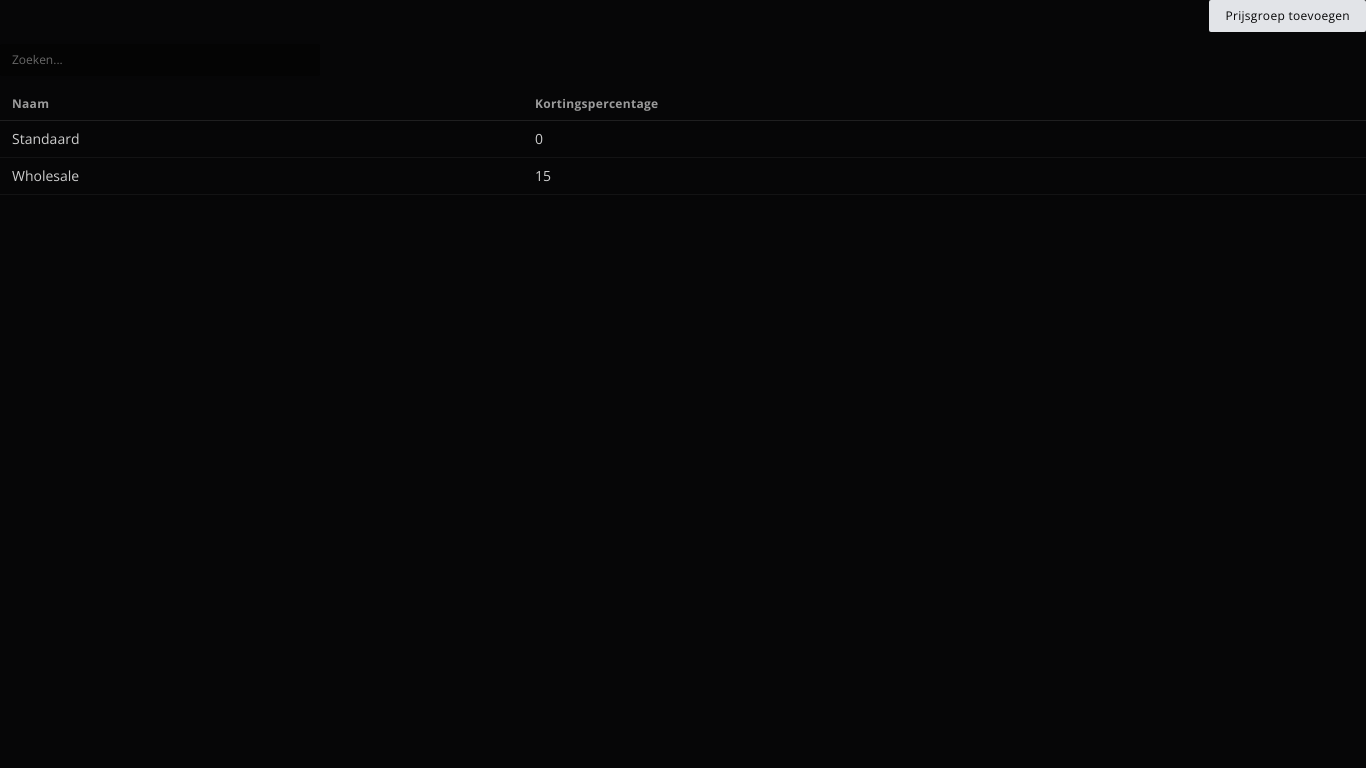
it: PrijsgroepenSection › shows an action error and does not log when adding fails
Click the button with test id "prijsgroepen-add" at [1288, 16], box [1210,0,1365,32]
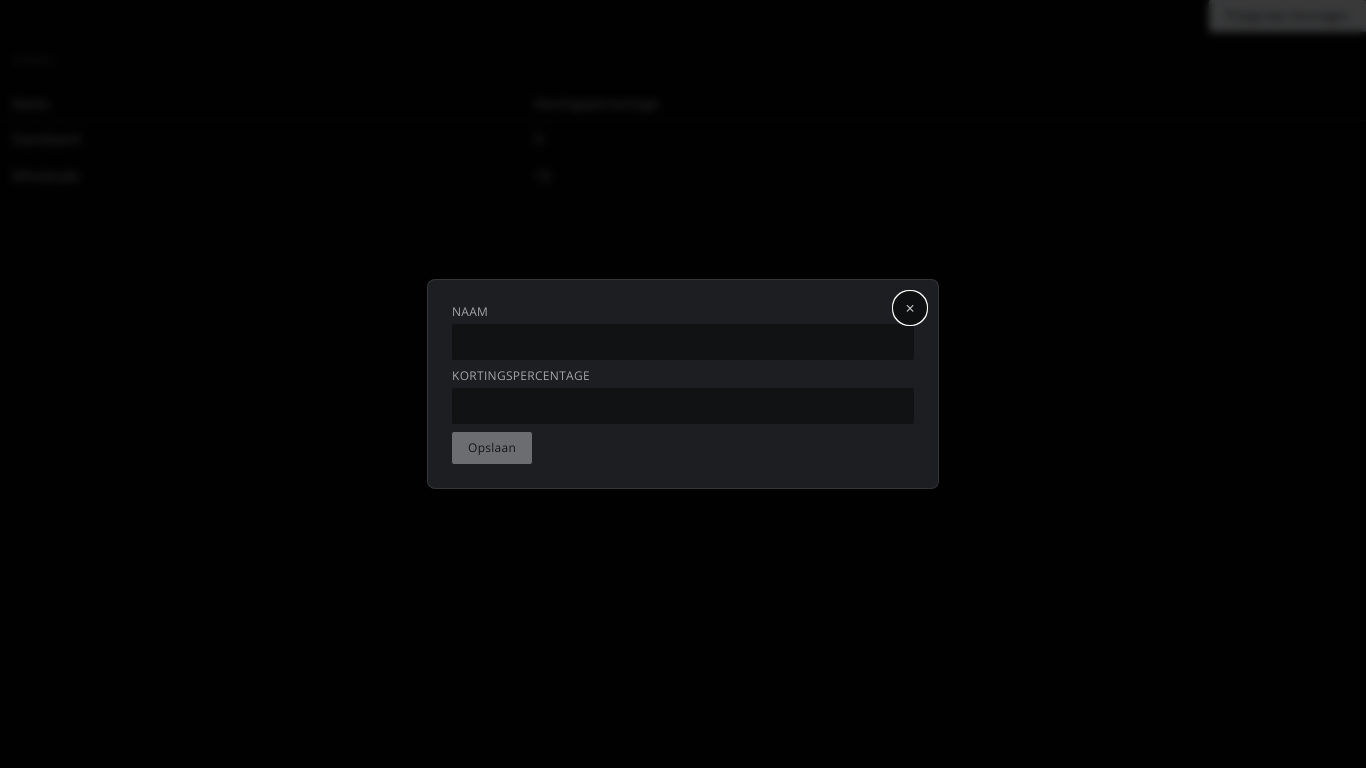
Type "VIP" into the field with test id "prijsgroep-modal-naam" at [683, 342], box [452,324,914,360]
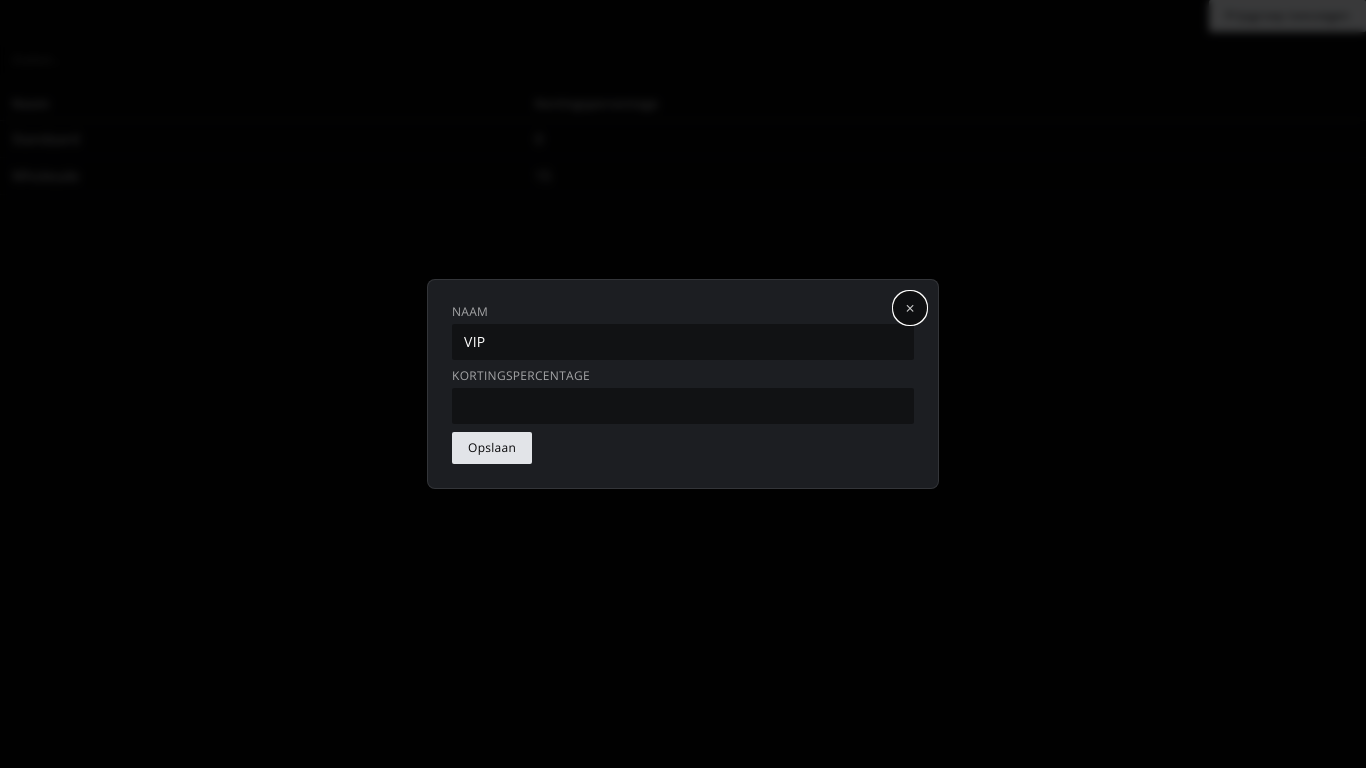
Click the button with test id "prijsgroep-modal-opslaan" at [492, 448], box [452,432,532,464]
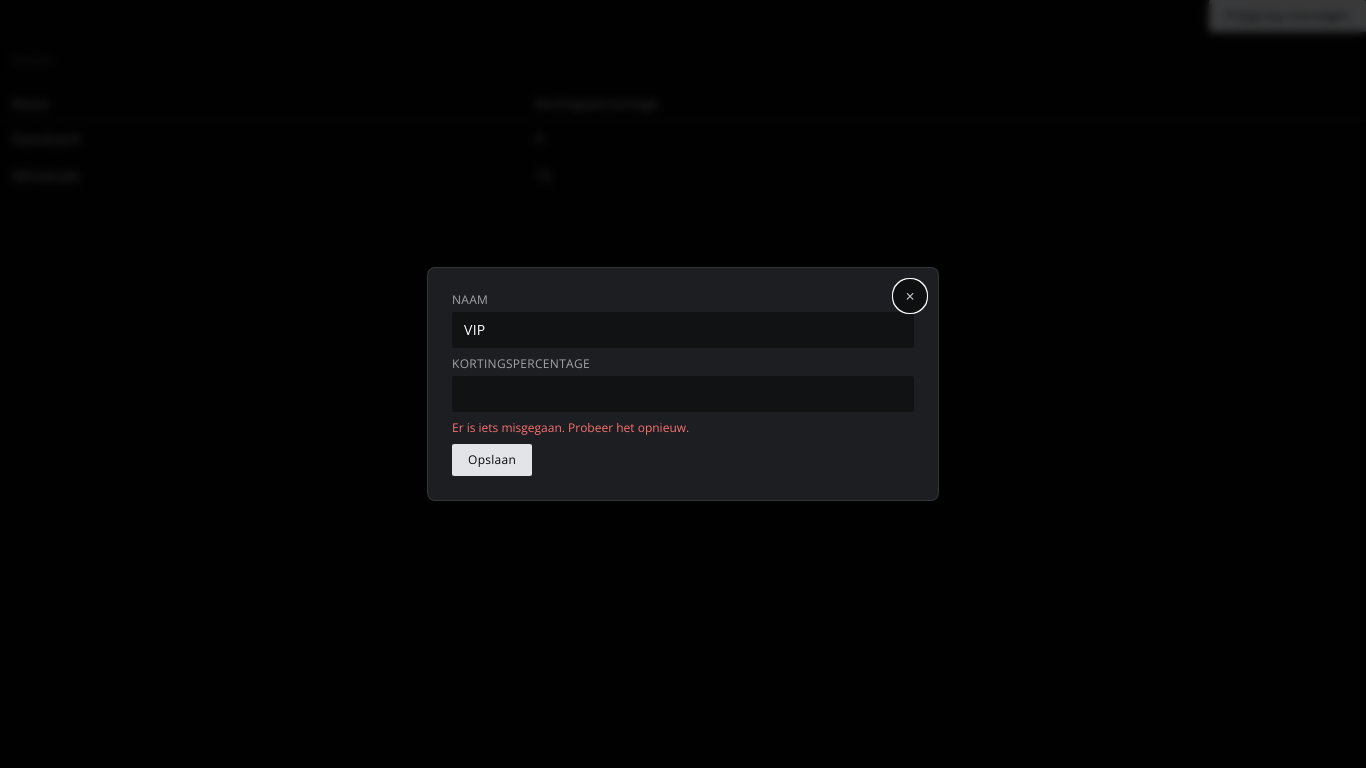
Expected: the text with test id "prijsgroep-modal-error" reads "Er is iets misgegaan. Probeer het opnieuw.", [452,419,689,436]
